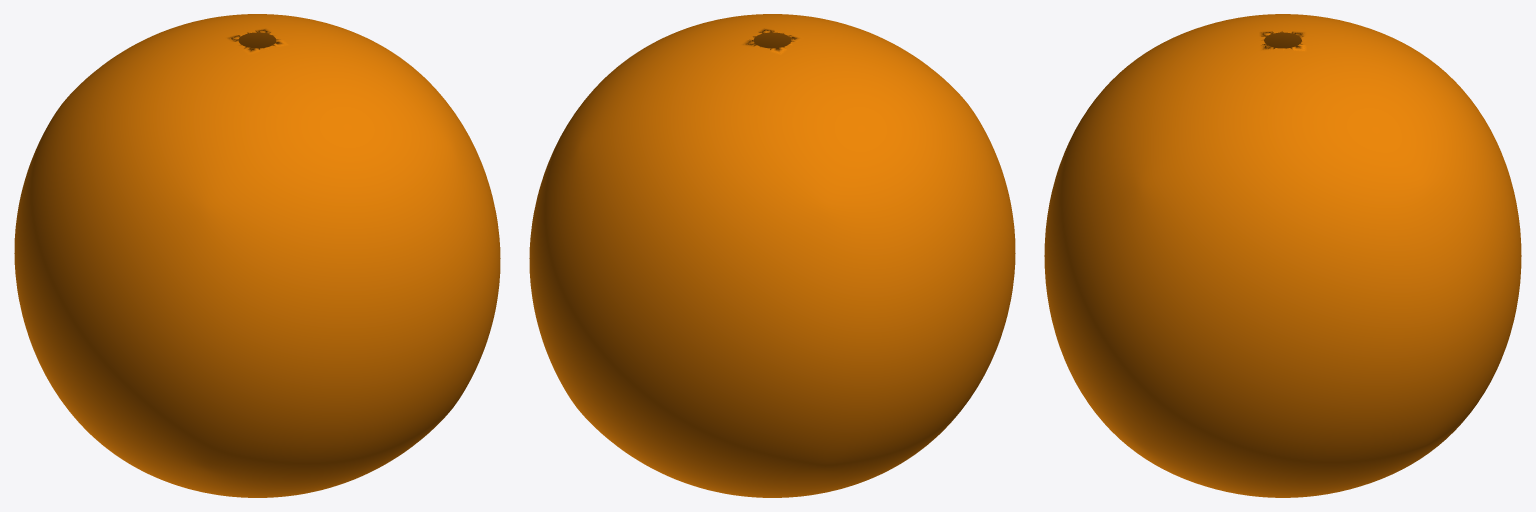
The model's file is planetoidSB_01.fbx.
The picture shows the model from 3 angles, left to right: view 1: azimuth 30°, elevation 25°; view 2: azimuth 150°, elevation 25°; view 3: azimuth 270°, elevation 25°; orthographic projection.
Visible parts, largest first — view 1: Circle; view 2: Circle; view 3: Circle.
Part boxes in pixels (<box>): Circle: <box>14,14,500,497</box>; Circle: <box>529,14,1015,497</box>; Circle: <box>1044,14,1521,497</box>.
Bounding box in the file's own units: 166 × 165 × 166.
